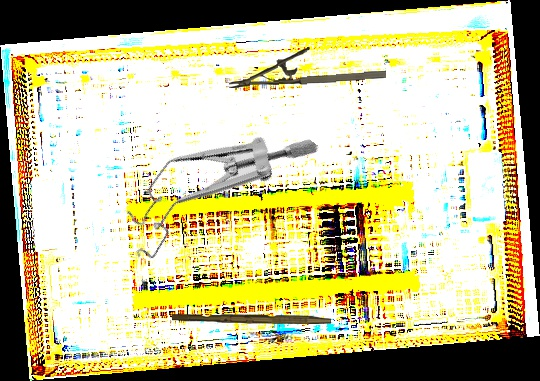Needle Holder: (227, 44, 387, 89)
Scalpel Handle: (172, 313, 331, 324)
Speculum: (107, 76, 322, 306)
